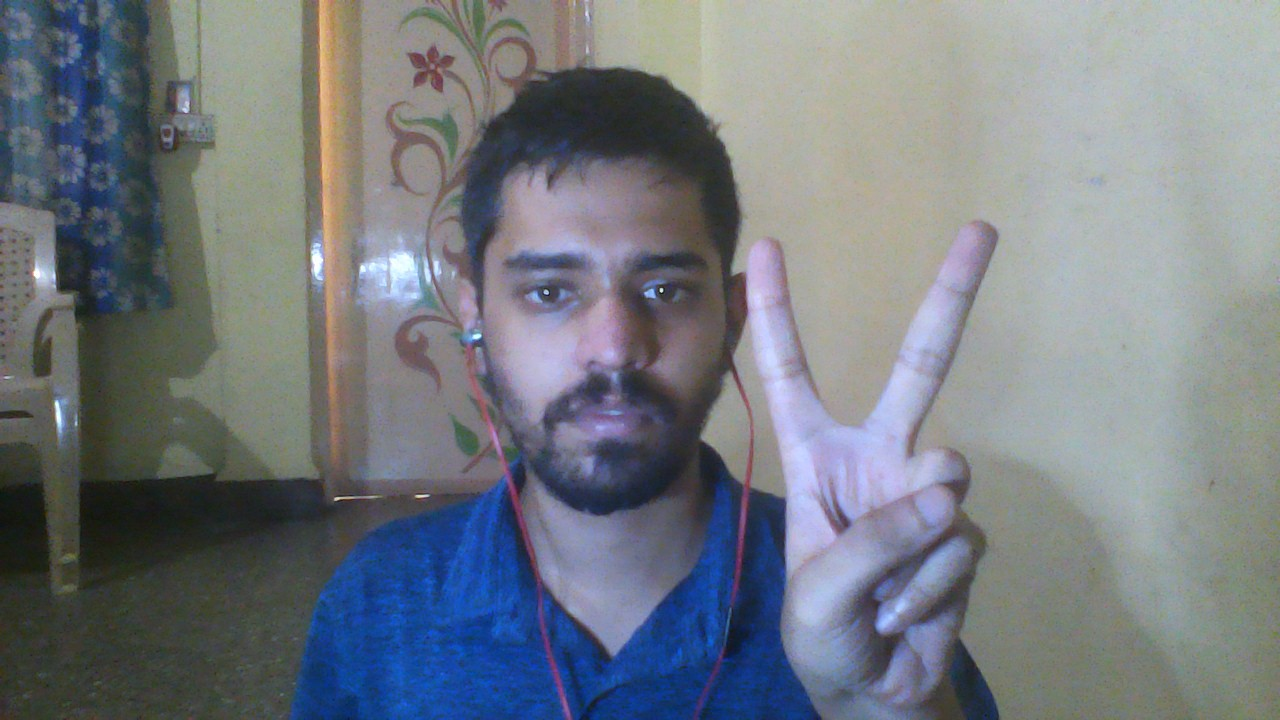v: (719, 192, 1012, 720)
